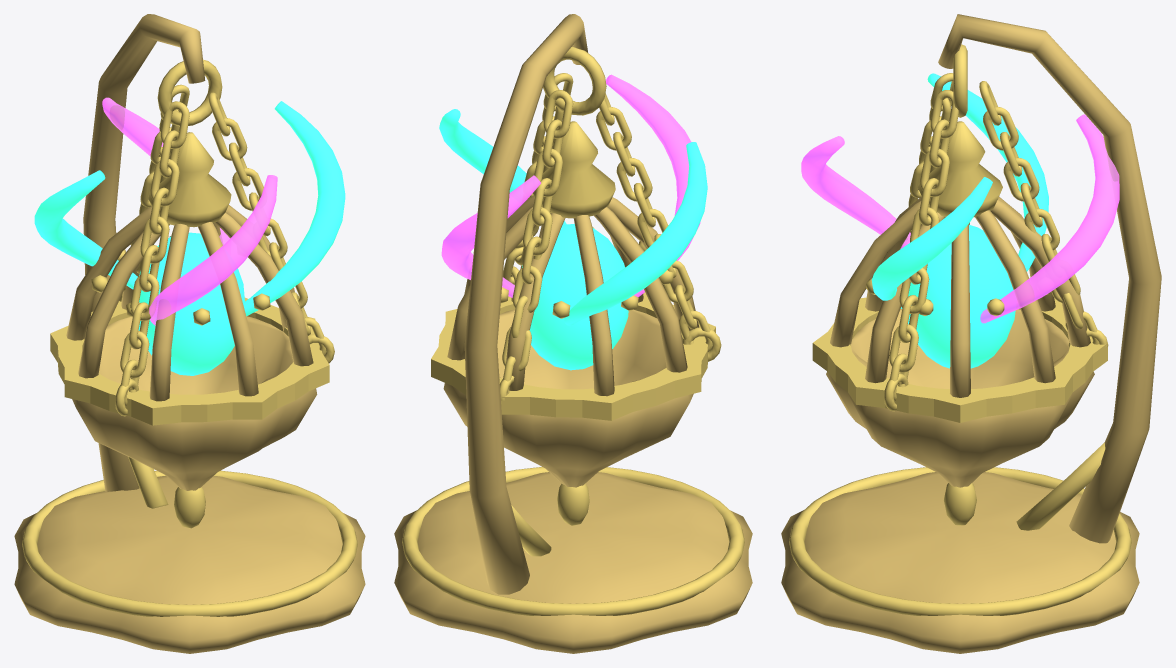
File: TRELIC_CENSER.glb
The picture shows the model from 3 angles, left to right: view 1: azimuth 30°, elevation 25°; view 2: azimuth 150°, elevation 25°; view 3: azimuth 270°, elevation 25°; orthographic projection. The views are drawn at different scales.
Visible parts, largest first — view 1: CenserStandBase, ThuribleBowl, CenserStandMast, ThuribleGalleryRim, StandBaseRim, ArcaneMistWisp_3, EmeraldArcaneCore, ArcaneMistWisp_2, DomeSpireFinial, ArcaneMistWisp_1, CathedralDomeRib_5, CathedralDomeRib_4 (+18 smaller); view 2: CenserStandBase, CenserStandMast, ThuribleBowl, StandBaseRim, ThuribleGalleryRim, EmeraldArcaneCore, ArcaneMistWisp_1, DomeSpireFinial, CathedralDomeRib_3, ArcaneMistWisp_2, CathedralDomeRib_4, ArcaneMistWisp_0 (+16 smaller); view 3: CenserStandBase, CenserStandMast, ThuribleBowl, ThuribleGalleryRim, StandBaseRim, EmeraldArcaneCore, ArcaneMistWisp_0, ArcaneMistWisp_3, CathedralDomeRib_1, ArcaneMistWisp_2, DomeSpireFinial, CathedralDomeRib_0 (+17 smaller).
Part boxes in pixels (box(x1,y1,x2,y2)): CenserStandBase: box(14, 475, 365, 653); ThuribleBowl: box(72, 316, 317, 490); CenserStandMast: box(83, 14, 205, 491); ThuribleGalleryRim: box(50, 297, 329, 425); StandBaseRim: box(22, 470, 357, 616); ArcaneMistWisp_3: box(243, 101, 345, 316); EmeraldArcaneCore: box(138, 232, 244, 375); ArcaneMistWisp_2: box(149, 175, 277, 325); DomeSpireFinial: box(148, 132, 231, 227); ArcaneMistWisp_1: box(34, 170, 137, 289); CathedralDomeRib_5: box(149, 224, 189, 401); CathedralDomeRib_4: box(78, 224, 169, 378); CenserStandBase: box(394, 472, 752, 653); CenserStandMast: box(464, 14, 587, 594); ThuribleBowl: box(443, 309, 693, 487); StandBaseRim: box(402, 467, 744, 615); ThuribleGalleryRim: box(431, 292, 715, 420); EmeraldArcaneCore: box(522, 224, 628, 370); ArcaneMistWisp_1: box(564, 142, 707, 325); DomeSpireFinial: box(533, 121, 615, 218); CathedralDomeRib_3: box(573, 215, 614, 396); ArcaneMistWisp_2: box(606, 74, 700, 297); CathedralDomeRib_4: box(594, 207, 687, 372); ArcaneMistWisp_0: box(441, 175, 540, 297); CenserStandBase: box(781, 472, 1139, 653); CenserStandMast: box(938, 14, 1161, 543); ThuribleBowl: box(826, 309, 1094, 487); ThuribleGalleryRim: box(812, 297, 1107, 422); StandBaseRim: box(789, 467, 1131, 615); EmeraldArcaneCore: box(908, 225, 1015, 368); ArcaneMistWisp_0: box(980, 114, 1119, 323); ArcaneMistWisp_3: box(871, 177, 992, 308); CathedralDomeRib_1: box(975, 210, 1055, 383); ArcaneMistWisp_2: box(801, 136, 910, 248); DomeSpireFinial: box(917, 121, 1002, 217); CathedralDomeRib_0: box(950, 224, 970, 397).
Size of the model in its own units: 0.1102 by 0.1734 by 0.107.
